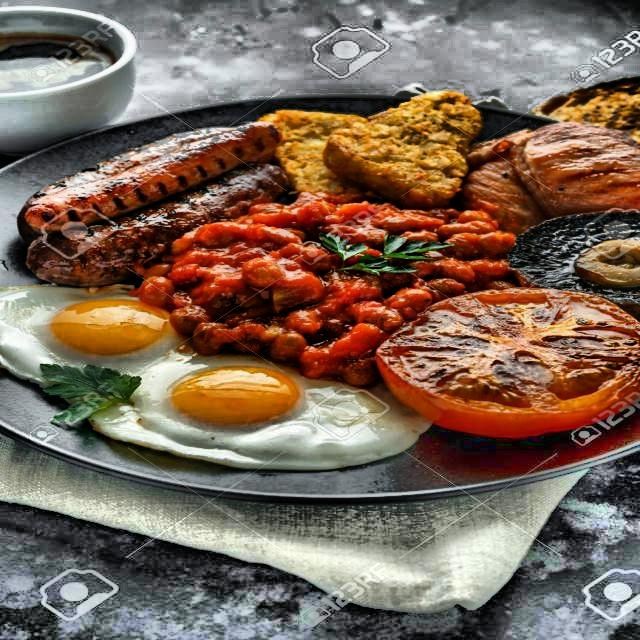Food: (9, 290, 394, 464), (280, 98, 464, 192)
